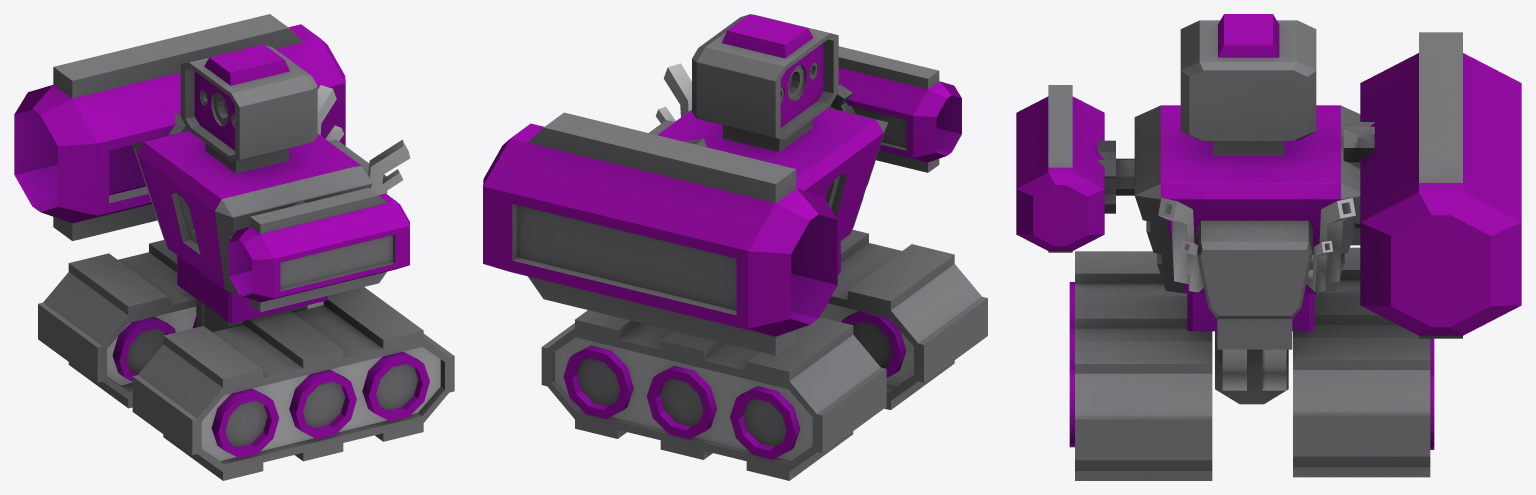
Rendered from Enemy2_Attack6.obj.
3 renders of one model, left to right at view 1: azimuth 30°, elevation 25°; view 2: azimuth 150°, elevation 25°; view 3: azimuth 270°, elevation 25°, orthographic. The views are drawn at different scales.
Visible parts, largest first — view 1: Object006, Object007, Object011, Object010; view 2: Object006, Object011, Object007, Object010; view 3: Object006, Object011, Object007, Object010, Object008, Object009.
Boxes of the visible parts, x1,y1,x2,y2 form: Object006: (38, 188, 454, 480); Object007: (132, 44, 372, 332); Object011: (14, 14, 345, 240); Object010: (307, 85, 410, 308); Object006: (541, 46, 987, 480); Object011: (483, 112, 837, 355); Object007: (657, 14, 888, 274); Object010: (649, 63, 691, 134); Object006: (1016, 85, 1434, 480); Object011: (1360, 32, 1521, 338); Object007: (1134, 14, 1360, 404); Object010: (1158, 198, 1355, 390); Object008: (1098, 140, 1134, 213); Object009: (1343, 122, 1374, 245).
Size of the model in its own units: 96.32 by 109 by 126.
